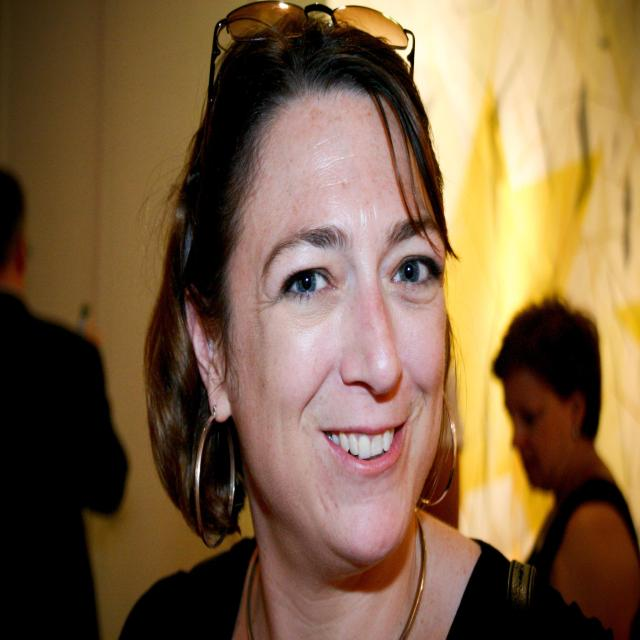Eyebags: (279, 289, 345, 329), (390, 278, 444, 314)
